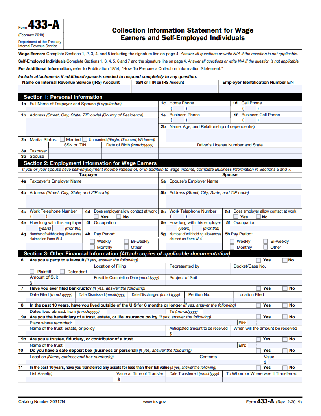checkbox: (254, 213, 263, 221), (232, 212, 240, 220), (59, 267, 67, 275), (228, 242, 236, 250), (262, 242, 270, 250), (255, 255, 263, 263), (255, 284, 263, 292), (255, 301, 263, 309), (281, 301, 289, 309), (255, 312, 263, 320), (281, 313, 289, 321), (255, 335, 263, 343), (281, 336, 289, 344), (255, 347, 263, 355), (281, 363, 289, 371), (255, 364, 263, 372), (81, 136, 89, 143), (228, 237, 236, 244), (262, 237, 270, 244), (281, 256, 288, 264), (281, 285, 289, 292), (281, 347, 288, 355), (59, 135, 66, 142), (93, 213, 100, 220), (115, 213, 122, 220), (89, 243, 96, 250), (123, 243, 130, 250), (89, 238, 96, 244), (123, 238, 130, 244), (29, 269, 36, 275)
textbox: (18, 110, 160, 137), (15, 187, 160, 210), (158, 187, 302, 210), (156, 121, 306, 143), (18, 352, 198, 366), (18, 340, 239, 350), (157, 176, 304, 191), (17, 324, 167, 338), (16, 176, 160, 190), (17, 318, 239, 327), (17, 99, 159, 113), (165, 273, 305, 287), (17, 79, 133, 93), (157, 229, 224, 251), (17, 229, 83, 251), (131, 78, 220, 94), (16, 369, 115, 383), (218, 78, 304, 94), (157, 146, 305, 155), (222, 369, 303, 384), (157, 152, 305, 160), (221, 218, 304, 232), (82, 218, 160, 232), (89, 273, 167, 287), (232, 290, 304, 305), (90, 262, 167, 276), (157, 99, 232, 113), (229, 110, 304, 124), (229, 262, 304, 276), (229, 324, 304, 338), (17, 273, 91, 287), (17, 206, 84, 221), (156, 111, 231, 124), (229, 100, 304, 113), (164, 324, 233, 338), (157, 207, 224, 221), (164, 262, 231, 276), (194, 352, 261, 366), (126, 290, 186, 305), (17, 290, 77, 304), (165, 369, 224, 383), (111, 369, 167, 383), (73, 290, 130, 303), (183, 290, 235, 304), (259, 351, 303, 366), (201, 307, 275, 315), (236, 318, 304, 326), (236, 341, 303, 349), (101, 146, 160, 155), (103, 307, 166, 315), (48, 146, 103, 155), (100, 152, 159, 160), (48, 152, 103, 160)
textline: (27, 224, 39, 231), (166, 224, 177, 231), (52, 224, 63, 231), (191, 224, 202, 231)
